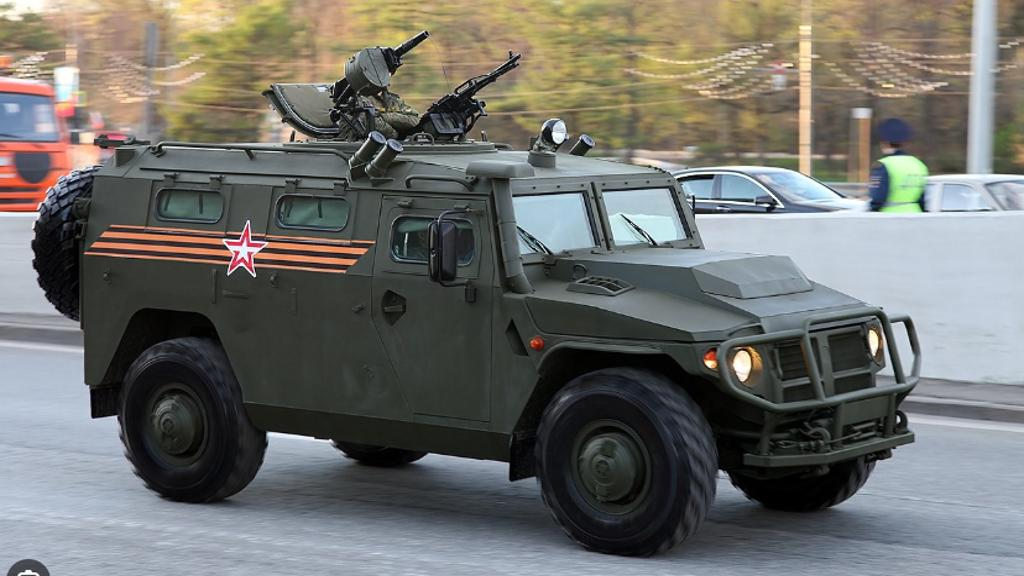CAR: (31, 26, 922, 559)
